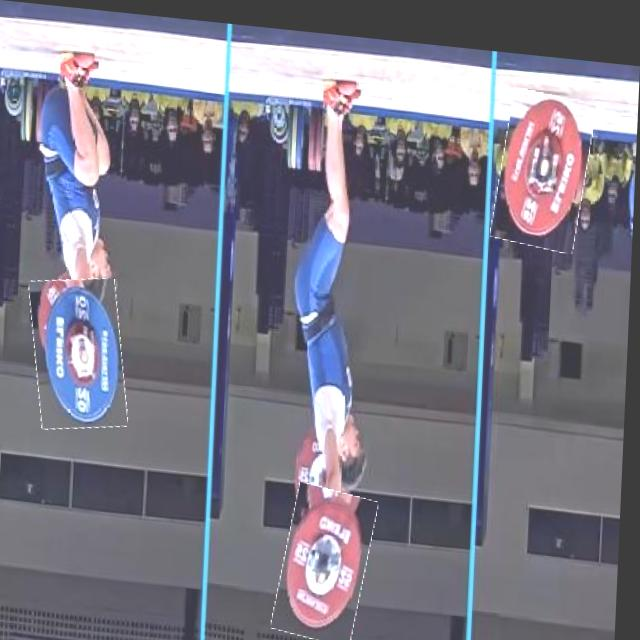barbell: (33, 273, 133, 433), (497, 78, 594, 242), (283, 477, 379, 639)
